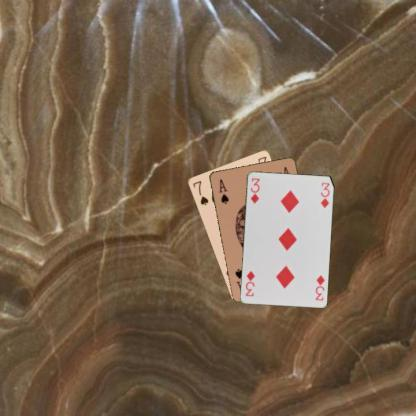3d: (312, 272, 326, 302), (248, 176, 260, 204)
7s: (190, 178, 210, 206)
As: (216, 176, 230, 205)
